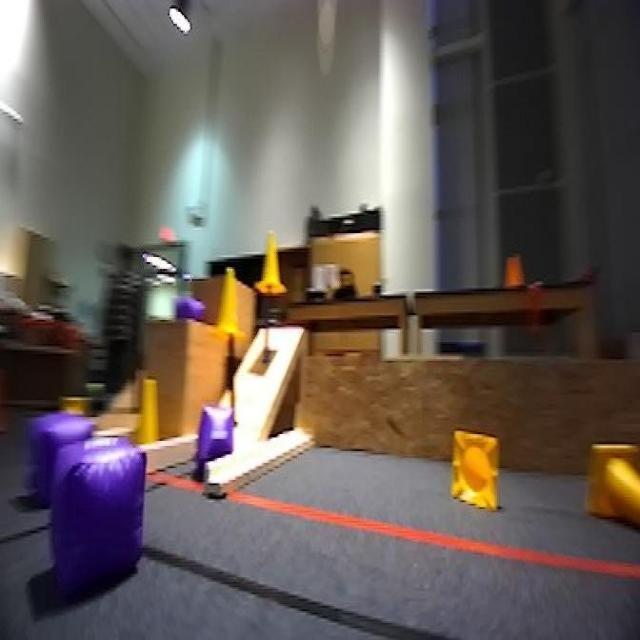frc_cone: (447, 422, 514, 524), (585, 444, 640, 553), (259, 222, 293, 294), (136, 371, 159, 434), (221, 284, 246, 337)
frc_cube: (68, 431, 163, 582), (31, 402, 99, 511), (161, 289, 218, 334), (201, 405, 241, 453)
